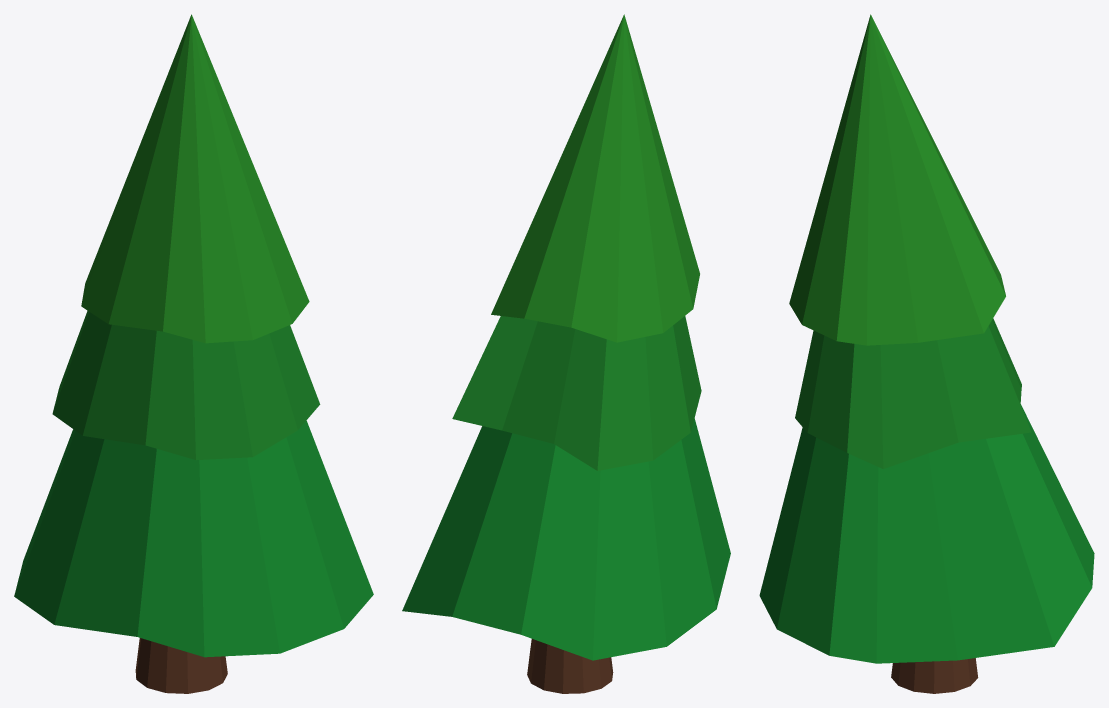
Rendered from blupTree2.fbx.
The picture shows the model from 3 angles, left to right: view 1: azimuth 30°, elevation 25°; view 2: azimuth 150°, elevation 25°; view 3: azimuth 270°, elevation 25°; orthographic projection. The views are drawn at different scales.
Visible parts, largest first — view 1: Cone; view 2: Cone; view 3: Cone.
Boxes of the visible parts, left/top/right/bottom form: Cone: left=14, top=14, right=373, bottom=693; Cone: left=402, top=14, right=730, bottom=693; Cone: left=759, top=14, right=1094, bottom=693.
Bounding box in the file's own units: 143 × 331 × 155.
